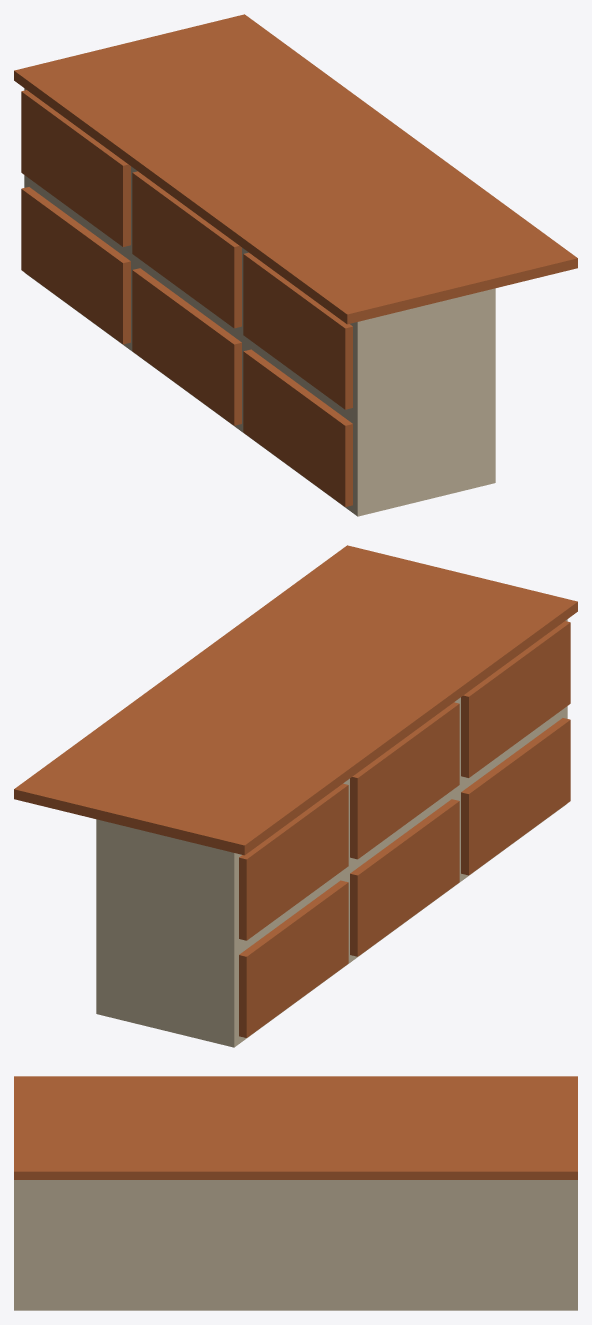
The model's file is MP_Kitchen_Island.fbx.
3 renders of one model, top to bottom at view 1: azimuth 30°, elevation 25°; view 2: azimuth 150°, elevation 25°; view 3: azimuth 270°, elevation 25°, orthographic. The views are drawn at different scales.
Parts seen in each view (by area): view 1: Island_Mesh; view 2: Island_Mesh; view 3: Island_Mesh.
Part boxes in pixels (x1,y1,x2,y2): Island_Mesh: (14, 14, 577, 516); Island_Mesh: (14, 545, 577, 1047); Island_Mesh: (14, 1076, 577, 1310).
Size of the model in its own units: 78.62 by 66.64 by 197.
